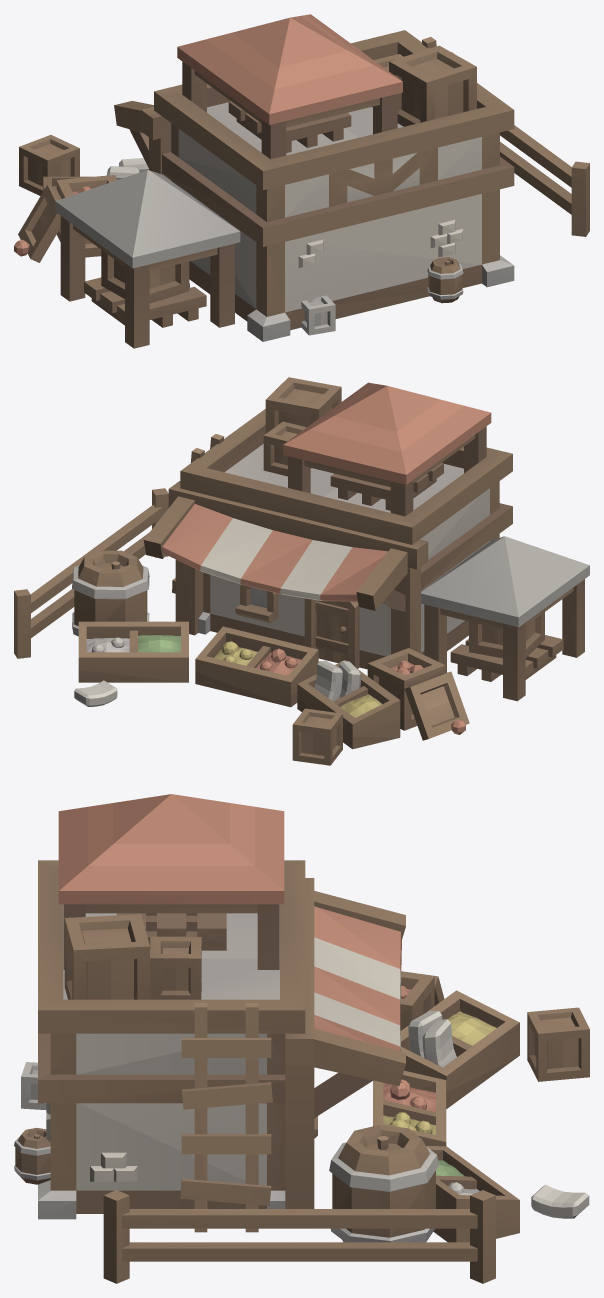
Rendered from market_small.glb.
The picture shows the model from 3 angles, top to bottom: view 1: azimuth 30°, elevation 25°; view 2: azimuth 150°, elevation 25°; view 3: azimuth 270°, elevation 25°; orthographic projection. The views are drawn at different scales.
Visible parts, largest first — view 1: market_small; view 2: market_small; view 3: market_small.
Part boxes in pixels (bbox=[...]): market_small: bbox=[14, 14, 589, 348]; market_small: bbox=[14, 377, 589, 765]; market_small: bbox=[14, 794, 589, 1283].
Bounding box in the file's own units: 3.31 × 1.81 × 2.89.
